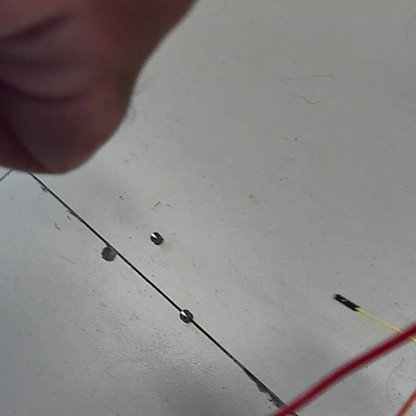ironball: (178, 304, 194, 324), (147, 229, 163, 244)
